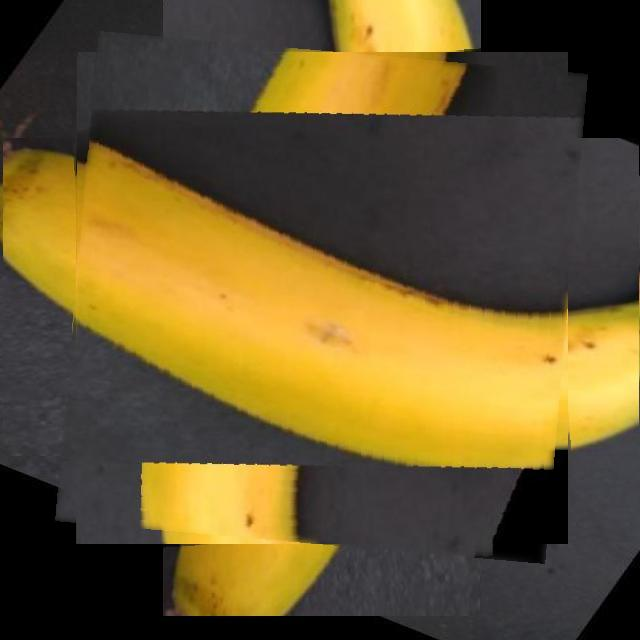Madura: (66, 42, 578, 554)
